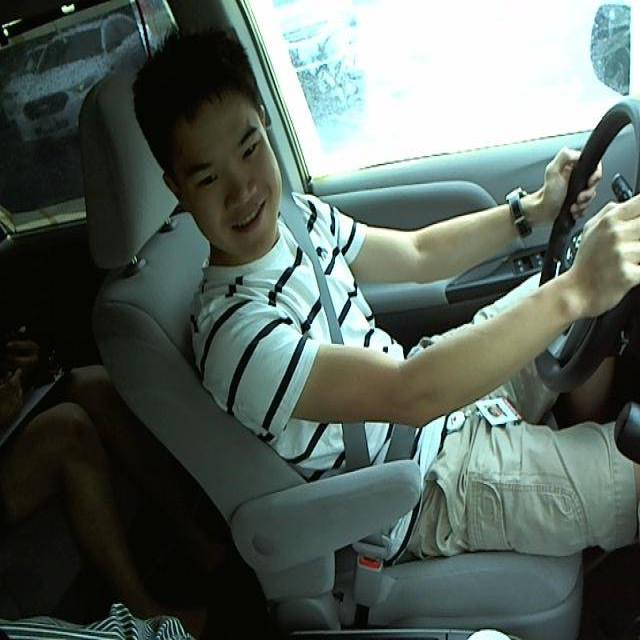seatbelt: (297, 221, 422, 495)
